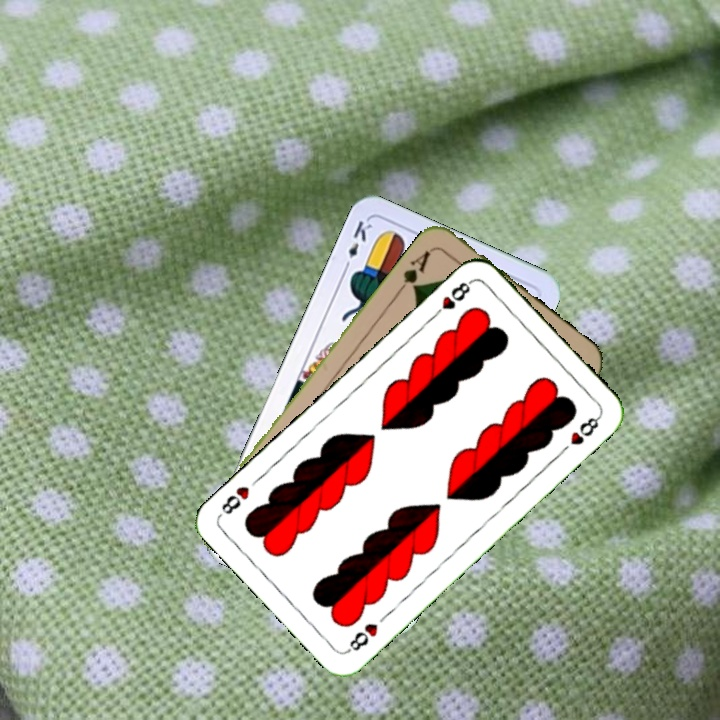EK: (339, 216, 375, 274)
GA: (393, 245, 435, 296)
H8: (428, 276, 475, 322), (343, 619, 381, 655)
